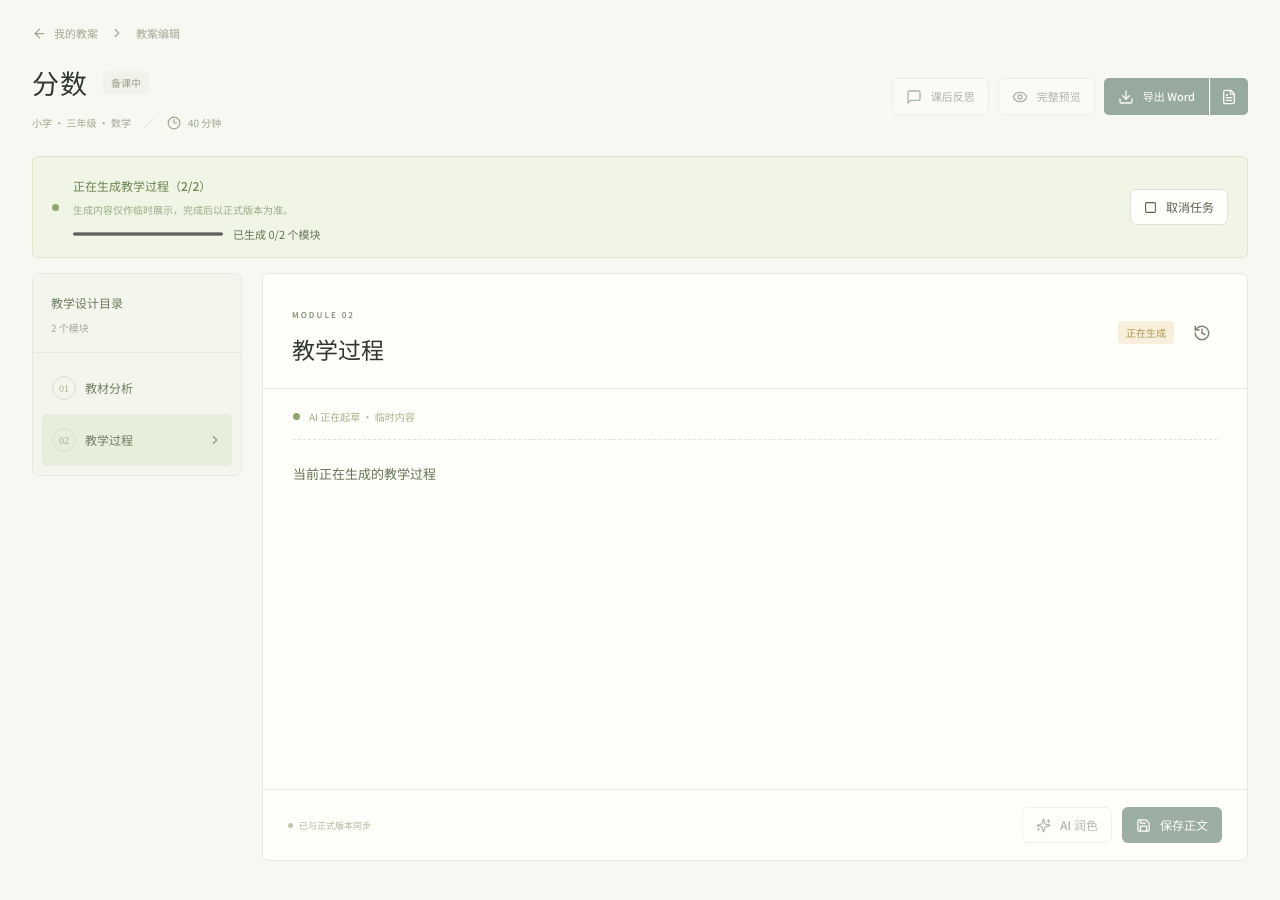
Test case: lets teachers inspect earlier modules and resume following the live module
This screenshot has width=1280, height=900.
Step 1. Click the button "01 教材分析" → point(137, 388), box [42,362,232,414]
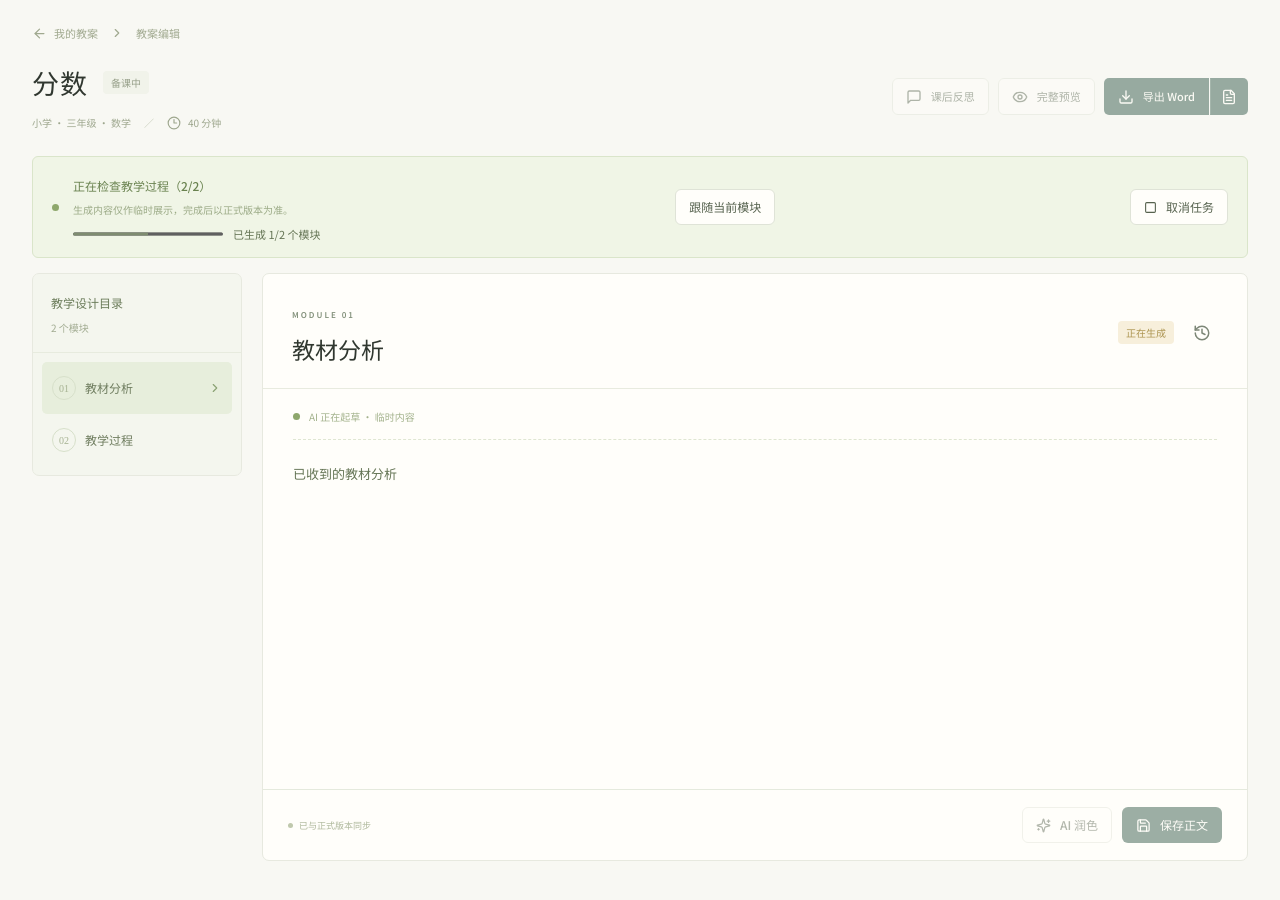
Expected: the heading "教材分析" is shown, [292,332,384,366]
Expected: the element with class "stream-content" shows "已收到的教材分析", [293,464,397,483]
Expected: the button "跟随当前模块" is shown
Step 2. Click the button "跟随当前模块" → point(725, 207), box [675,189,775,225]
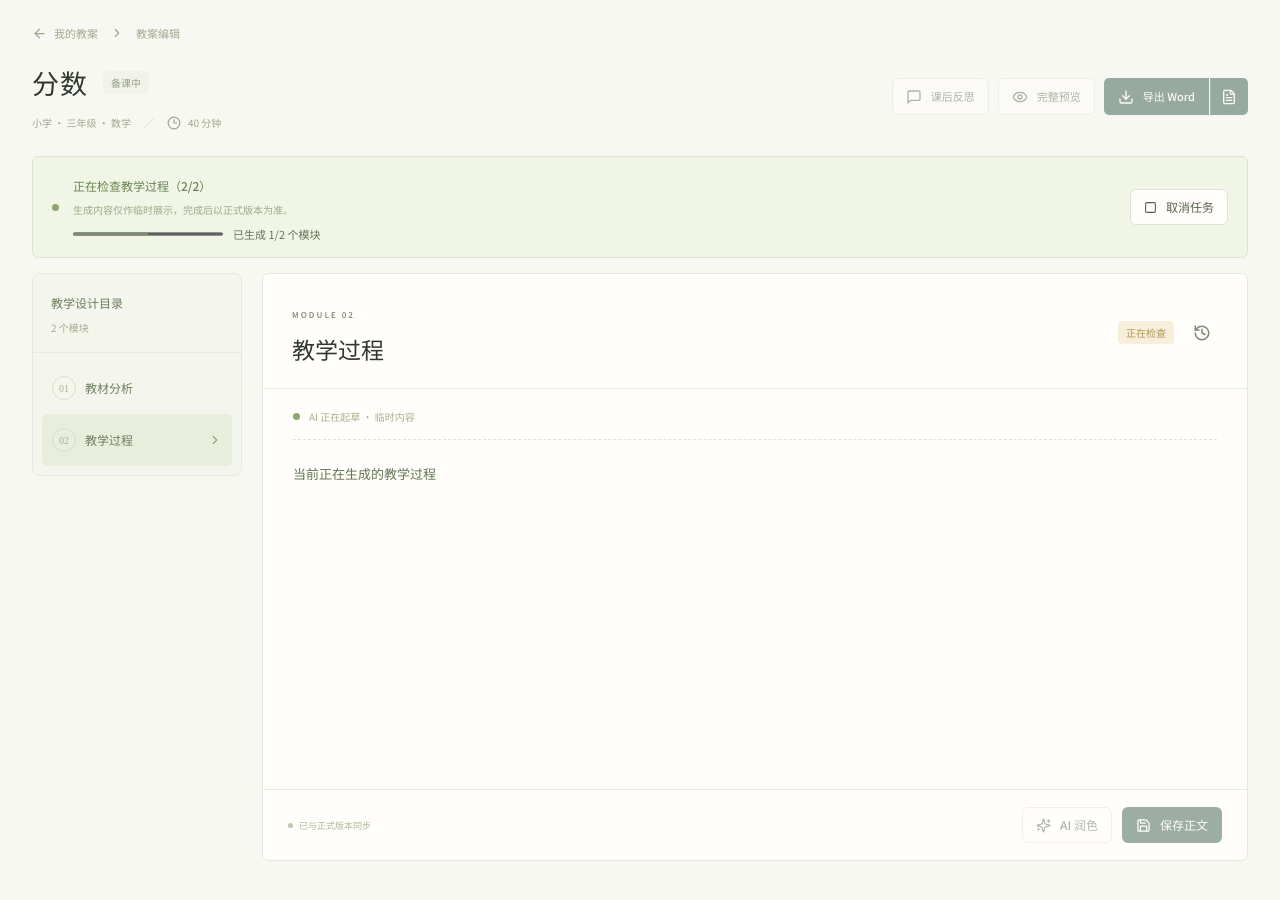
Expected: the heading "教学过程" is shown, [292,332,384,366]
Expected: the element with class "stream-content" shows "当前正在生成的教学过程", [293,464,436,483]
